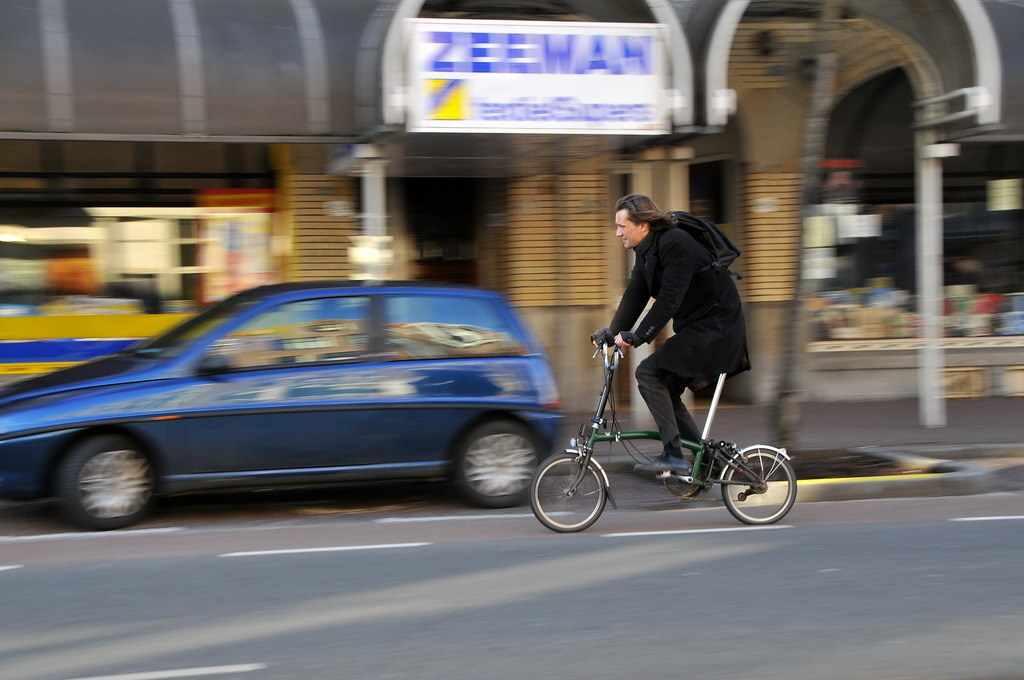Bike_toward: (506, 320, 809, 537)
